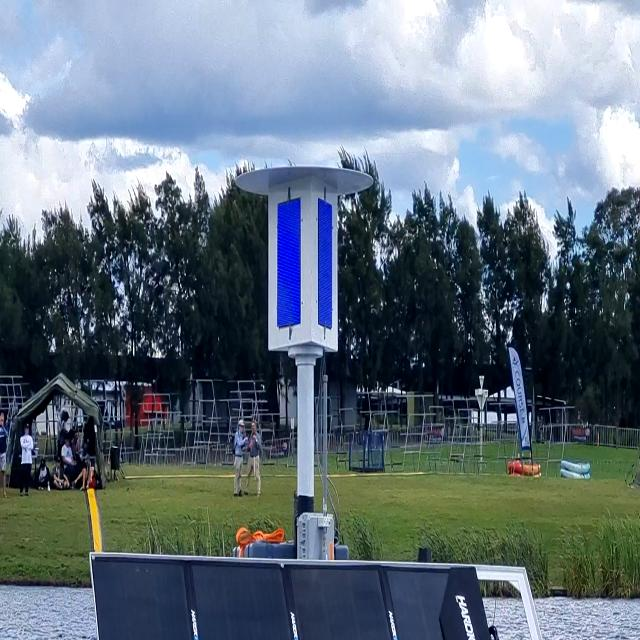led: (272, 189, 306, 334), (314, 186, 336, 342)
